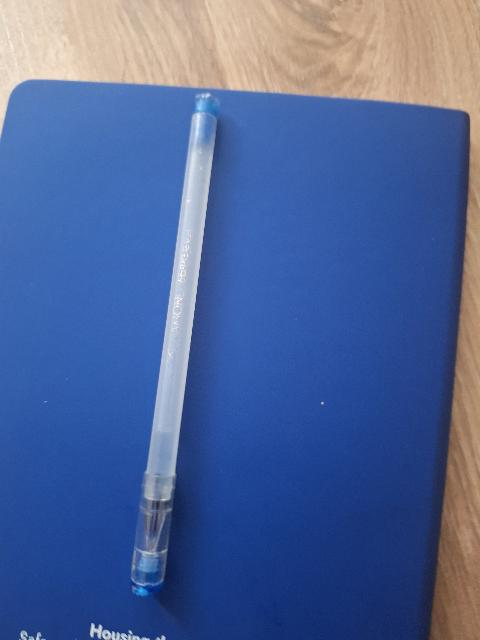writing_tool: (127, 93, 222, 591)
